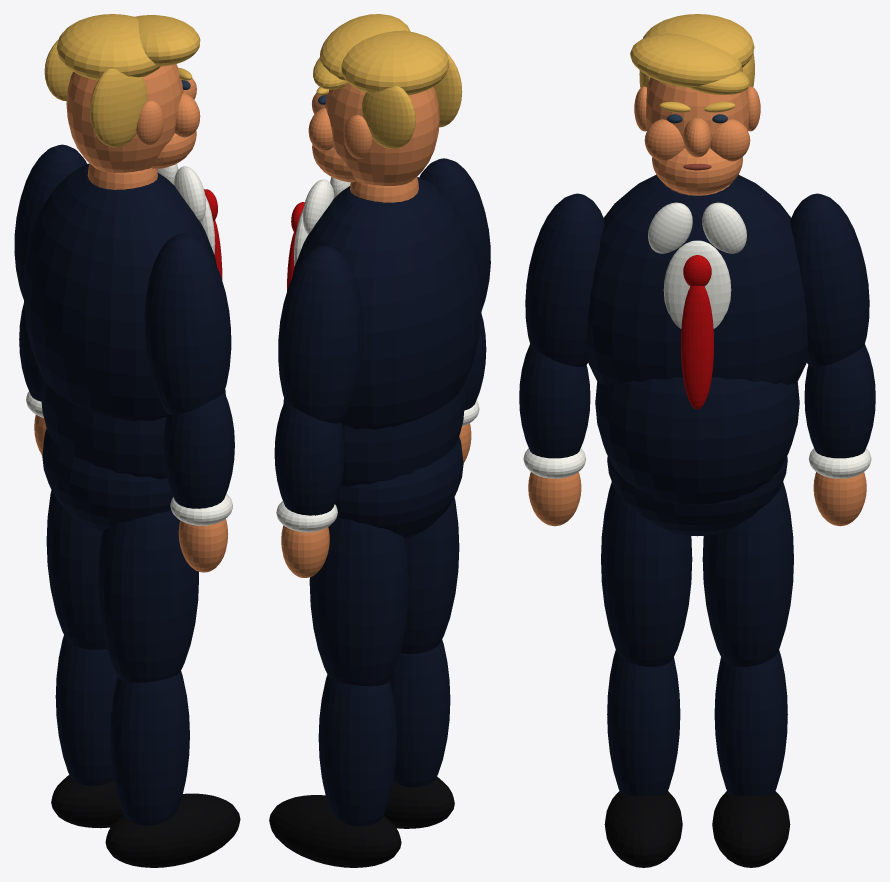
The model's file is trump.dae.
3 renders of one model, left to right at view 1: azimuth 30°, elevation 25°; view 2: azimuth 150°, elevation 25°; view 3: azimuth 270°, elevation 25°, orthographic.
Parts seen in each view (by area): view 1: Person; view 2: Person; view 3: Person.
Part boxes in pixels (x1=…): Person: x1=14, y1=14, x2=240, y2=867; Person: x1=269, y1=14, x2=490, y2=867; Person: x1=519, y1=14, x2=875, y2=867.
Size of the model in its own units: 0.421 by 0.75 by 1.89.
